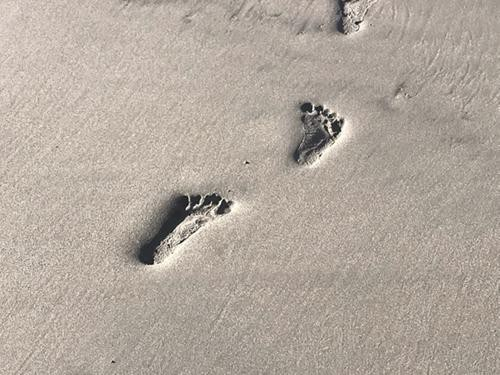human_footprint: (132, 183, 240, 264), (285, 97, 356, 164)
